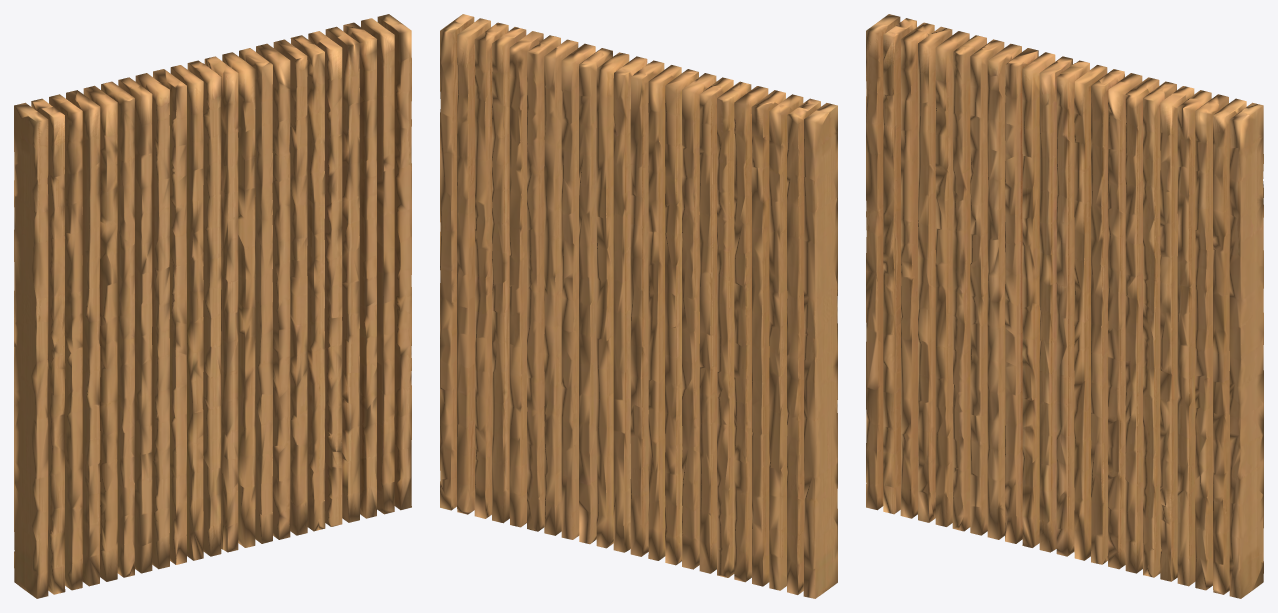
The model's file is Vertical Wood Slate Wall.glb.
3 views of the same model, side by side, from view 1: azimuth 30°, elevation 25°; view 2: azimuth 150°, elevation 25°; view 3: azimuth 330°, elevation 25° (orthographic).
Parts seen in each view (by area): view 1: Mesh_0.002; view 2: Mesh_0.002; view 3: Mesh_0.002.
Boxes of the visible parts, x1,y1,x2,y2 form: Mesh_0.002: [14, 14, 411, 598]; Mesh_0.002: [440, 14, 837, 598]; Mesh_0.002: [866, 14, 1263, 598].
Size of the model in its own units: 0.9868 by 1.2 by 0.105.
Materials: 1 (1 with a texture image).
